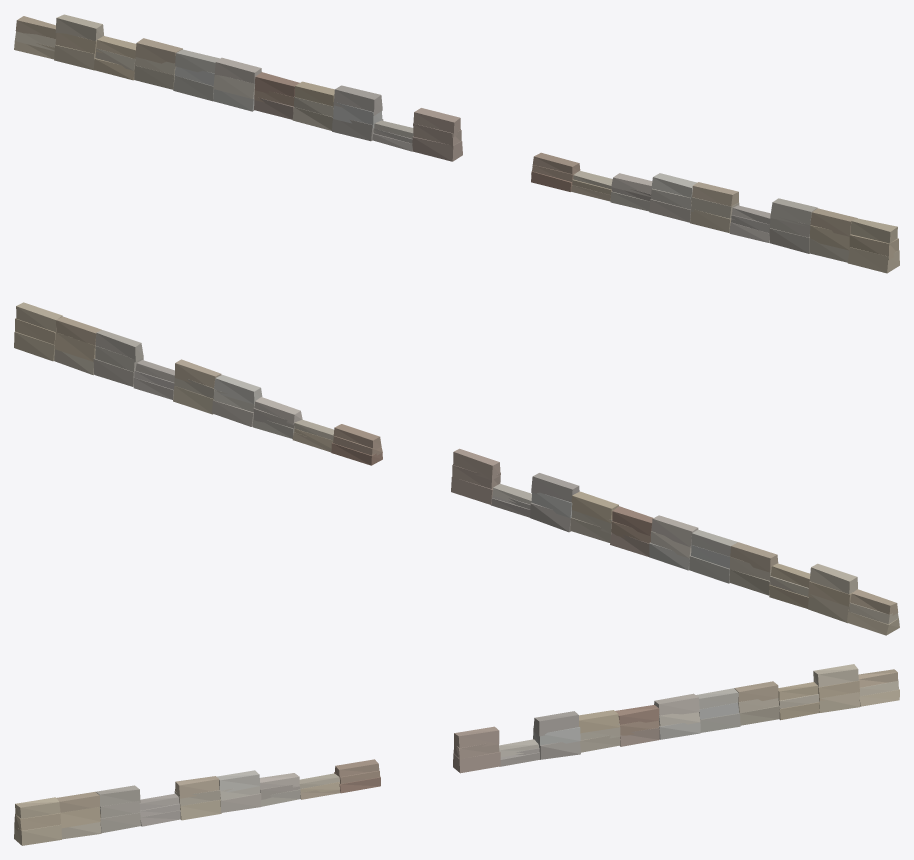
The model's file is farm_1_9_mid.glb.
3 views of the same model, one above another, from view 1: azimuth 30°, elevation 25°; view 2: azimuth 210°, elevation 25°; view 3: azimuth 270°, elevation 25° (orthographic). The views are drawn at different scales.
Parts seen in each view (by area): view 1: geometry_0; view 2: geometry_0; view 3: geometry_0.
Part boxes in pixels (x1=…): geometry_0: x1=14, y1=14, x2=899, y2=273; geometry_0: x1=14, y1=302, x2=899, y2=635; geometry_0: x1=14, y1=664, x2=899, y2=845.
Size of the model in its own units: 15.7 by 2.64 by 32.07.
